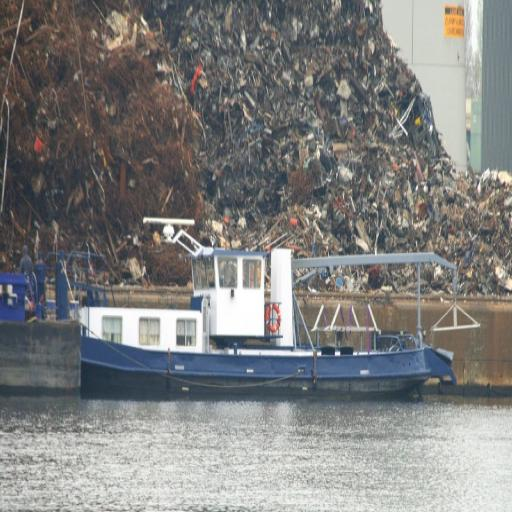tugboat: (22, 200, 461, 409)
